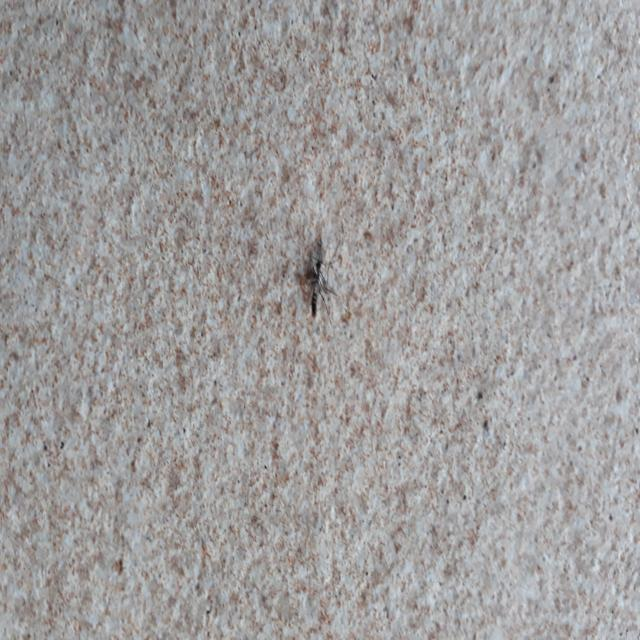albopictus: (299, 235, 346, 329)
